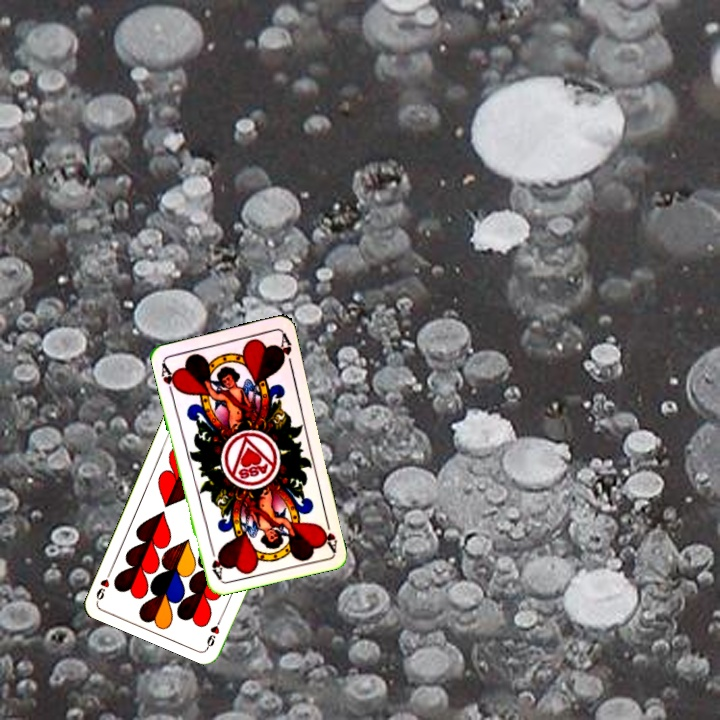H9: (203, 611, 226, 650)
HA: (157, 357, 181, 397), (316, 513, 340, 553)
